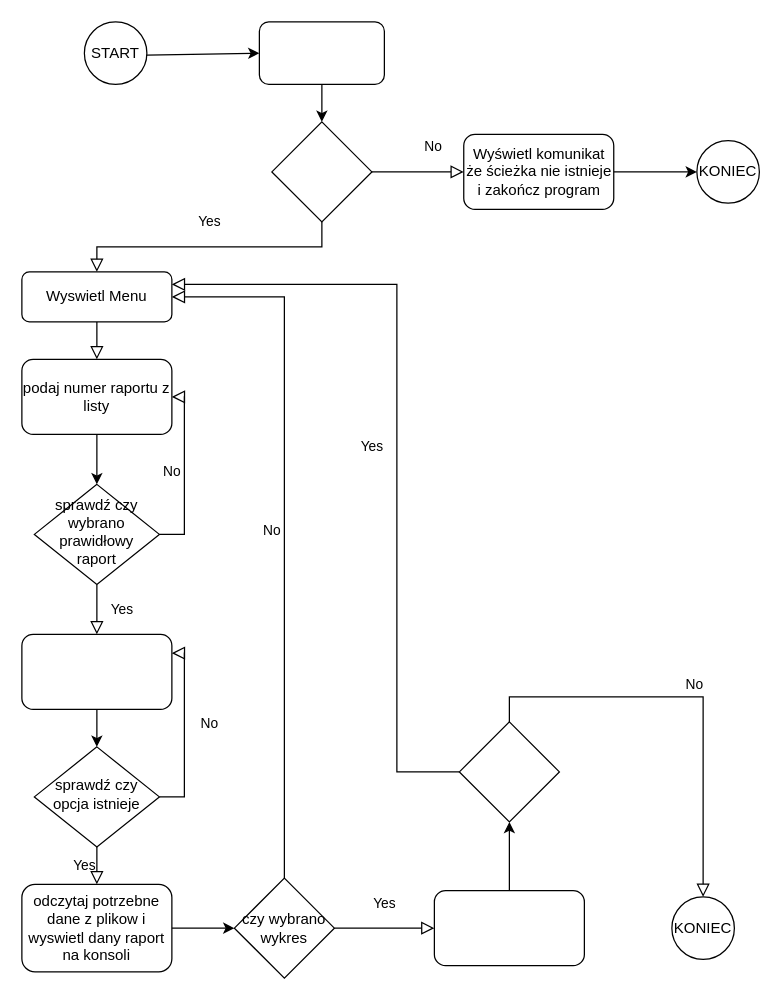
Image size: 781x1000. Some labels were removed from this diagram. Here are the shapes that lost their labels. From the top down, the centre of each, then its label:
the point at 321,52: Podaj ścieżkę do pliku
the point at 321,171: sprawdź czy ścieżka istnieje
the point at 96,671: wybierz opcje z listy dostepnych
the point at 508,771: zapytaj czy kontunuować
the point at 508,927: zapisz wykres do pliku w danym formacie, wyświetl komunikat
